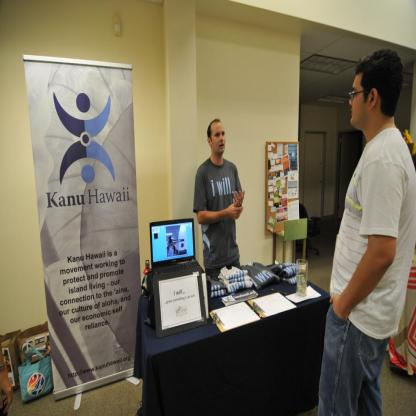board: (148, 218, 203, 280)
